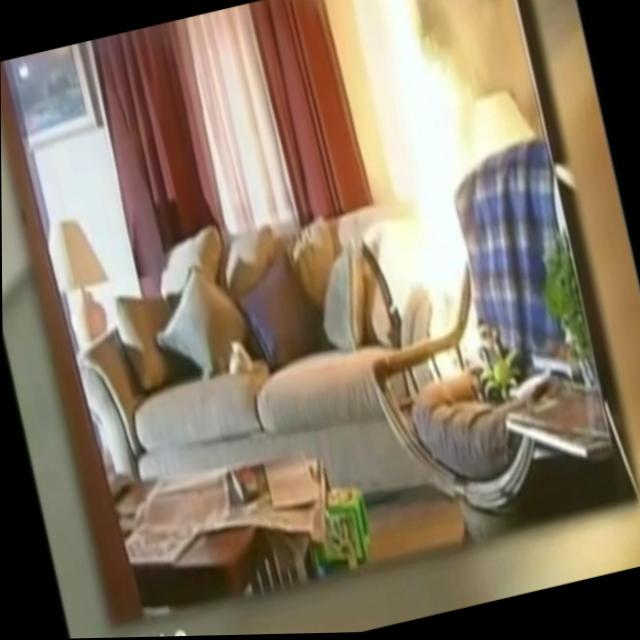fire: (352, 0, 526, 377)
